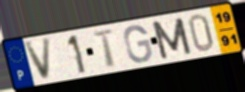0: (187, 12, 216, 54)
1: (66, 32, 88, 75)
G: (122, 23, 154, 64)
M: (149, 16, 194, 61)
T: (91, 28, 119, 69)
V: (23, 35, 53, 82)
